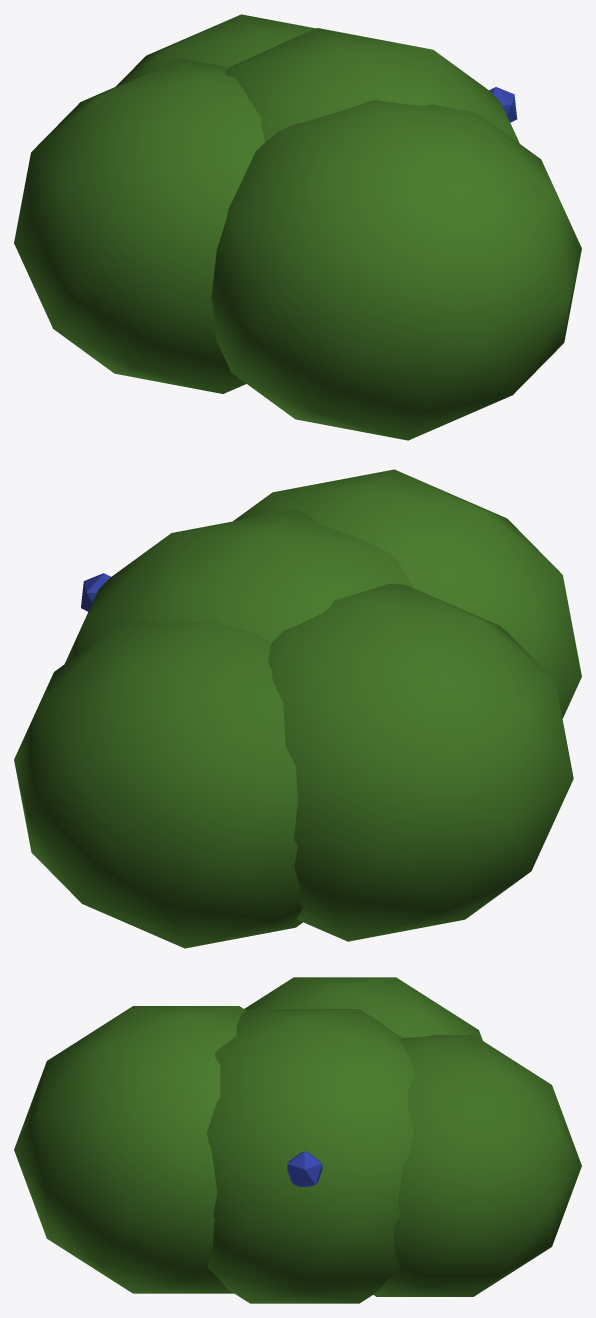
Rendered from p_shrub_3.glb.
3 renders of one model, top to bottom at view 1: azimuth 30°, elevation 25°; view 2: azimuth 150°, elevation 25°; view 3: azimuth 270°, elevation 25°, orthographic. The views are drawn at different scales.
Parts seen in each view (by area): view 1: body; view 2: body; view 3: body.
Boxes of the visible parts, bbox=[...] form: body: bbox=[14, 14, 581, 440]; body: bbox=[14, 469, 581, 948]; body: bbox=[14, 977, 581, 1303].
Size of the model in its own units: 1.29 by 0.8071 by 1.65.
